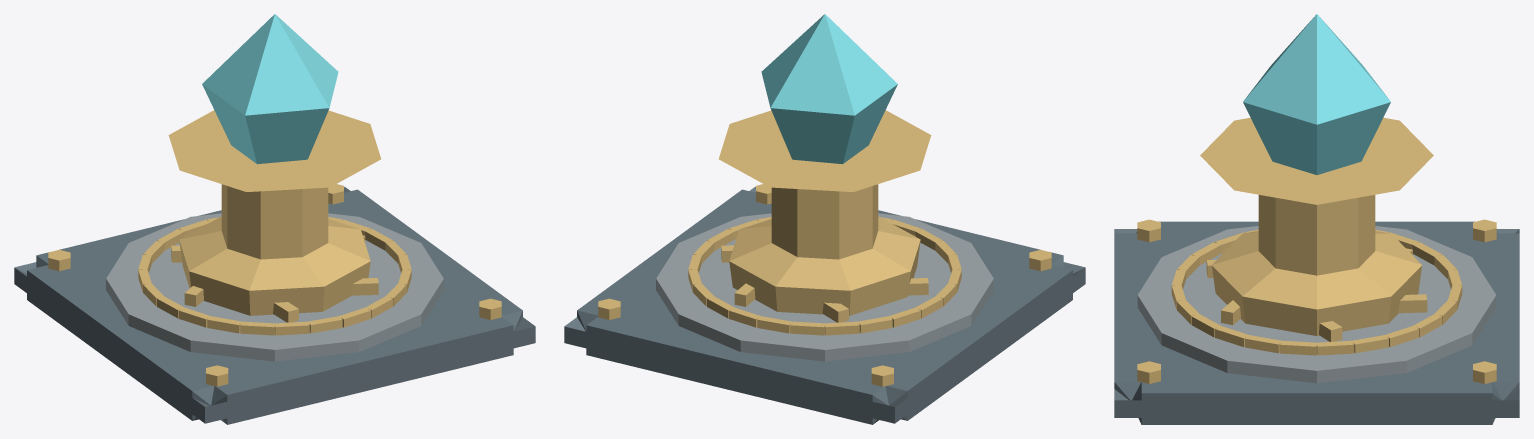
The model's file is TrapTransformation.fbx.
3 renders of one model, left to right at view 1: azimuth 30°, elevation 25°; view 2: azimuth 150°, elevation 25°; view 3: azimuth 270°, elevation 25°, orthographic. The views are drawn at different scales.
Visible parts, largest first — view 1: TrapTransformation.002; view 2: TrapTransformation.002; view 3: TrapTransformation.002.
Part boxes in pixels (box(x1,y1,x2,y2)): TrapTransformation.002: box(14, 14, 535, 424); TrapTransformation.002: box(564, 14, 1085, 424); TrapTransformation.002: box(1114, 14, 1519, 424).
Size of the model in its own units: 1.04 by 0.92 by 1.04.
